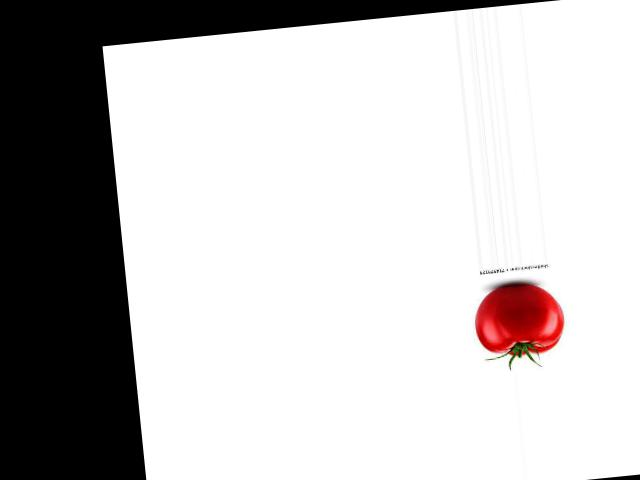tomato: (471, 280, 566, 358)
